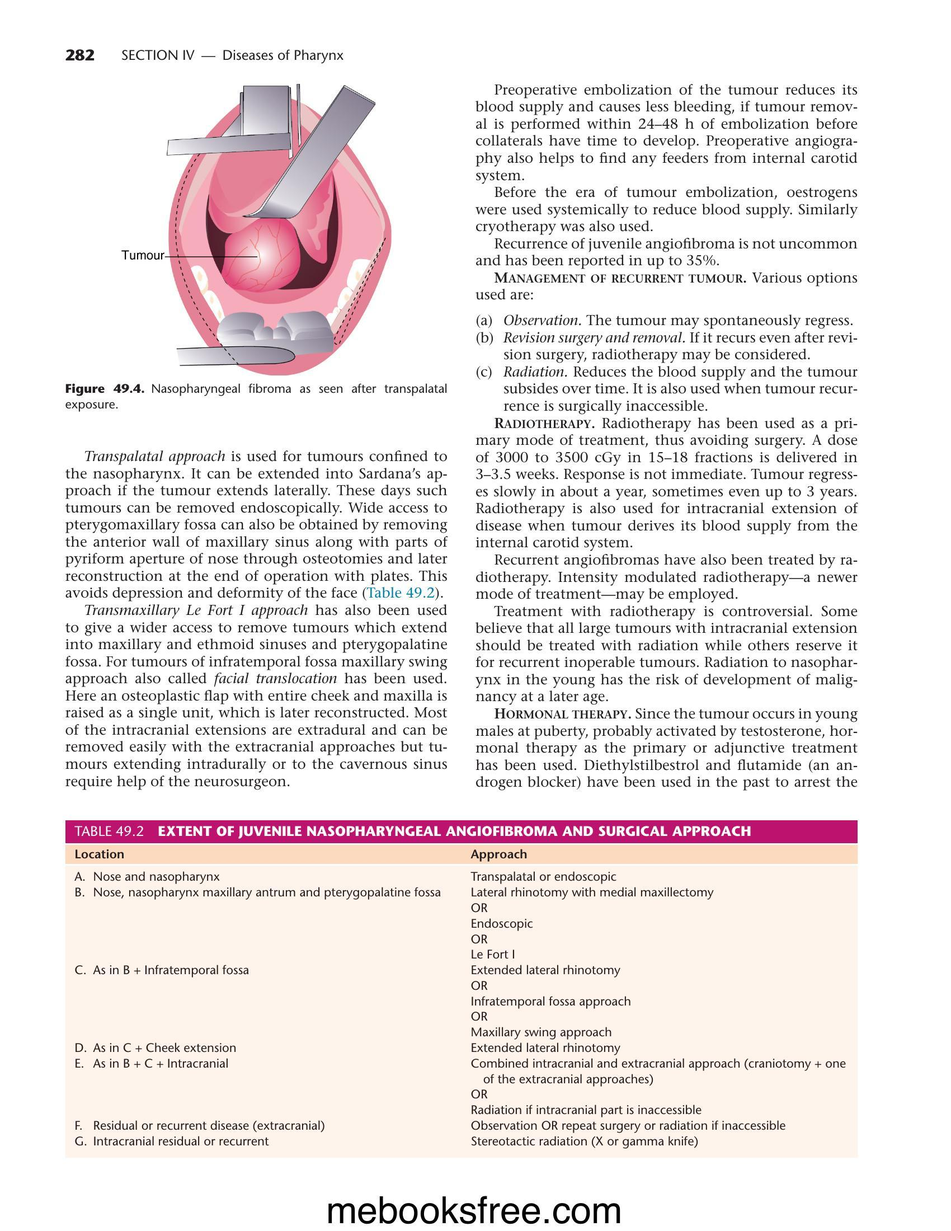caption: (65, 382, 448, 413), (73, 825, 752, 840)
header: (121, 49, 344, 64)
image: (117, 75, 405, 378)
list: (475, 312, 859, 414)
table: (65, 843, 859, 1159)
text: (475, 416, 858, 792), (64, 450, 448, 791), (474, 83, 859, 302)
